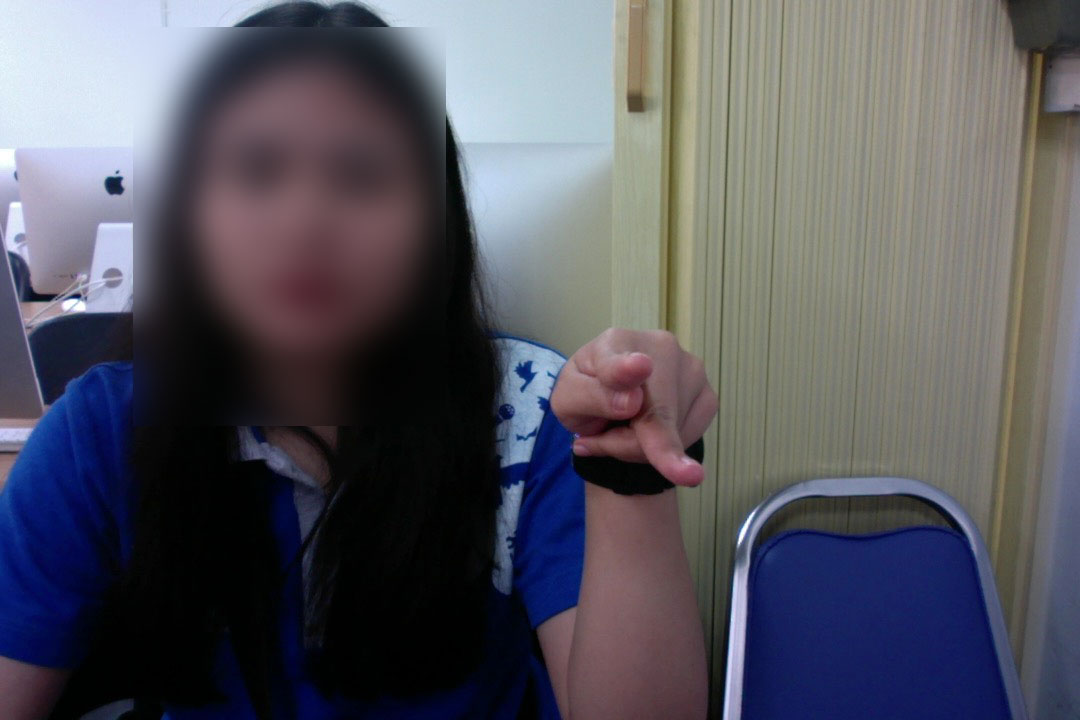por: (543, 307, 728, 504)
